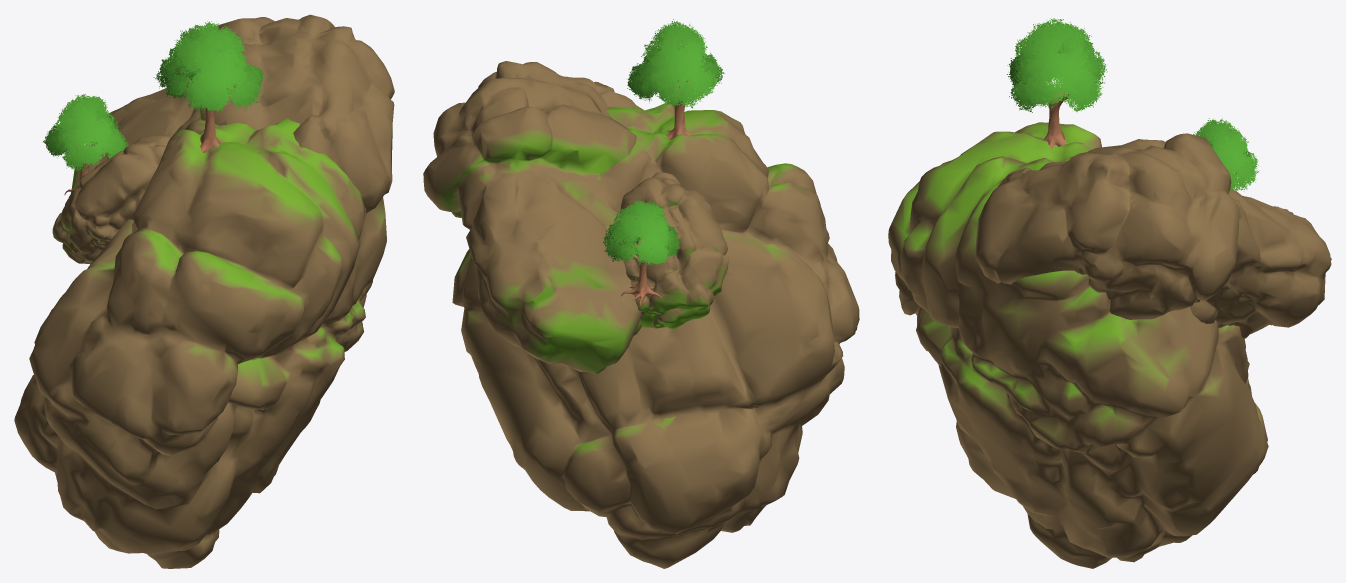
File: cell_x1_z2_render.gltf
The picture shows the model from 3 angles, left to right: view 1: azimuth 30°, elevation 25°; view 2: azimuth 150°, elevation 25°; view 3: azimuth 270°, elevation 25°; orthographic projection. The views are drawn at different scales.
Parts seen in each view (by area): view 1: SM_ENV_cliff_castle_01_LOD0.033, SM_ENV_cliff_castle_02_LOD0.014, SM_ENV_cliff_castle_01_LOD0.038, SM_ENV_tree_castle_01_LOD0.029, SM_ENV_tree_castle_01_LOD0.017; view 2: SM_ENV_cliff_castle_01_LOD0.033, SM_ENV_cliff_castle_02_LOD0.014, SM_ENV_cliff_castle_01_LOD0.038, SM_ENV_tree_castle_01_LOD0.029, SM_ENV_tree_castle_01_LOD0.017; view 3: SM_ENV_cliff_castle_01_LOD0.033, SM_ENV_cliff_castle_02_LOD0.014, SM_ENV_tree_castle_01_LOD0.029, SM_ENV_tree_castle_01_LOD0.017.
Boxes of the visible parts, <box> form: SM_ENV_cliff_castle_01_LOD0.033: <box>14,118,386,568</box>; SM_ENV_cliff_castle_02_LOD0.014: <box>71,14,394,213</box>; SM_ENV_cliff_castle_01_LOD0.038: <box>52,135,171,264</box>; SM_ENV_tree_castle_01_LOD0.029: <box>153,21,266,152</box>; SM_ENV_tree_castle_01_LOD0.017: <box>43,94,128,195</box>; SM_ENV_cliff_castle_01_LOD0.033: <box>452,102,859,568</box>; SM_ENV_cliff_castle_02_LOD0.014: <box>423,61,641,374</box>; SM_ENV_cliff_castle_01_LOD0.038: <box>620,172,728,328</box>; SM_ENV_tree_castle_01_LOD0.029: <box>627,19,724,139</box>; SM_ENV_tree_castle_01_LOD0.017: <box>603,200,681,308</box>; SM_ENV_cliff_castle_01_LOD0.033: <box>888,122,1268,568</box>; SM_ENV_cliff_castle_02_LOD0.014: <box>975,133,1331,338</box>; SM_ENV_tree_castle_01_LOD0.029: <box>1007,18,1107,148</box>; SM_ENV_tree_castle_01_LOD0.017: <box>1193,118,1258,191</box>.
Bounding box in the file's own units: 59.57 × 83.82 × 60.18.
3 materials, 2 textured.
